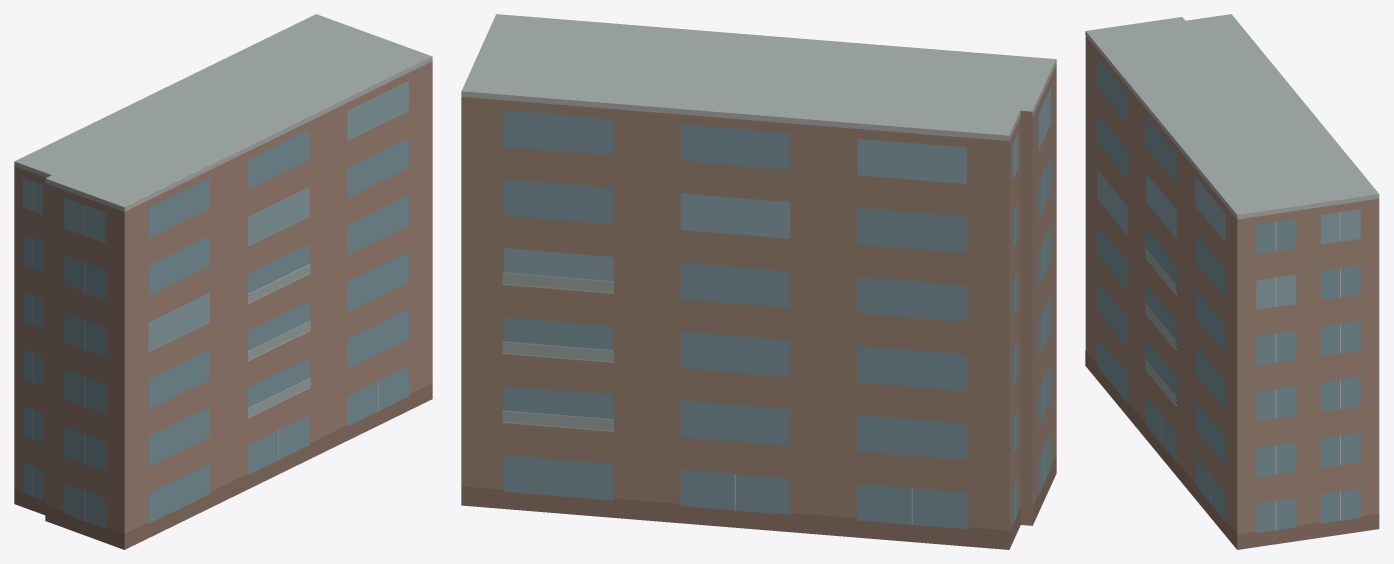
The model's file is survey-upis-32753594.glb.
3 views of the same model, side by side, from view 1: azimuth 30°, elevation 25°; view 2: azimuth 150°, elevation 25°; view 3: azimuth 270°, elevation 25° (orthographic). The views are drawn at different scales.
Visible parts, largest first — view 1: survey-upis-32753594.tmp; view 2: survey-upis-32753594.tmp; view 3: survey-upis-32753594.tmp.
Boxes of the visible parts, x1=… form: survey-upis-32753594.tmp: x1=14, y1=14, x2=432, y2=549; survey-upis-32753594.tmp: x1=461, y1=14, x2=1056, y2=549; survey-upis-32753594.tmp: x1=1085, y1=14, x2=1379, y2=549.
Bounding box in the file's own units: 23.57 × 18.3 × 14.56.
